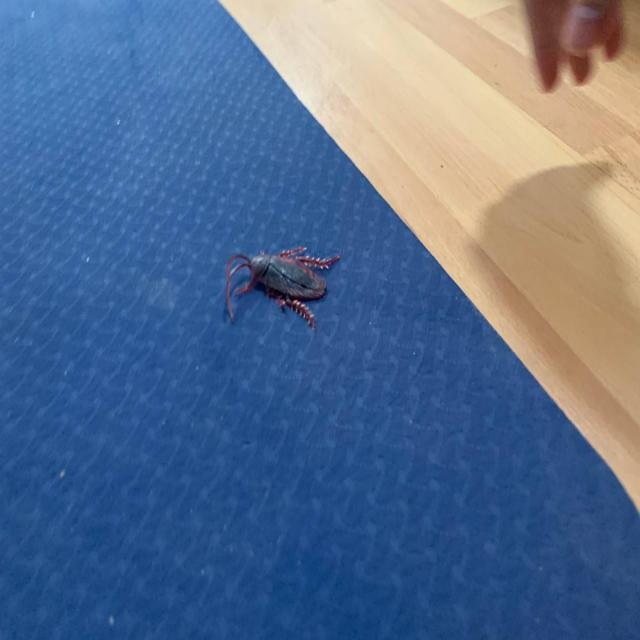Cockroach: (218, 232, 344, 335)
